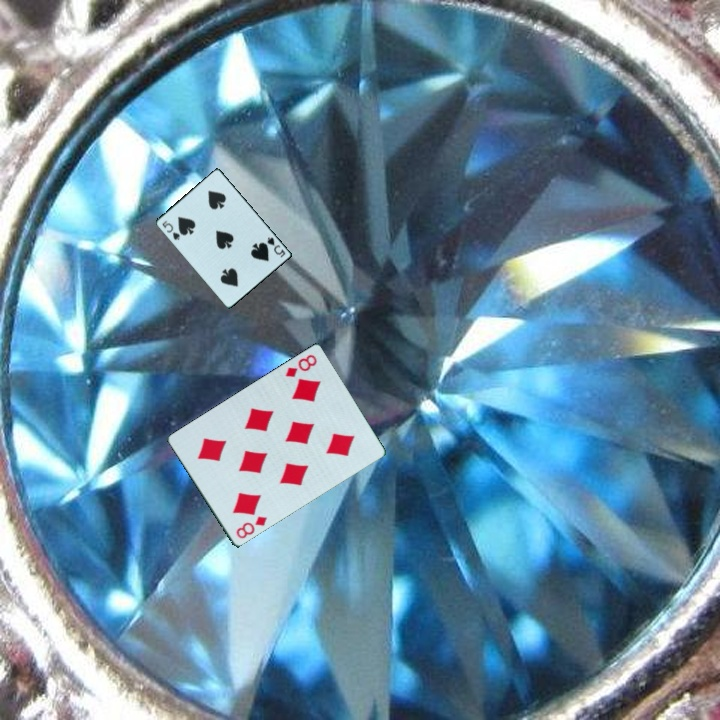5s: (158, 217, 183, 243), (263, 234, 288, 260)
8d: (282, 351, 320, 381), (232, 513, 270, 542)
